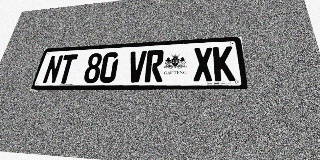0: (98, 52, 119, 83)
8: (82, 53, 104, 83)
K: (213, 46, 235, 81)
N: (42, 55, 64, 84)
R: (144, 50, 164, 82)
T: (56, 54, 78, 84)
V: (126, 51, 147, 83)
X: (193, 47, 214, 82)
